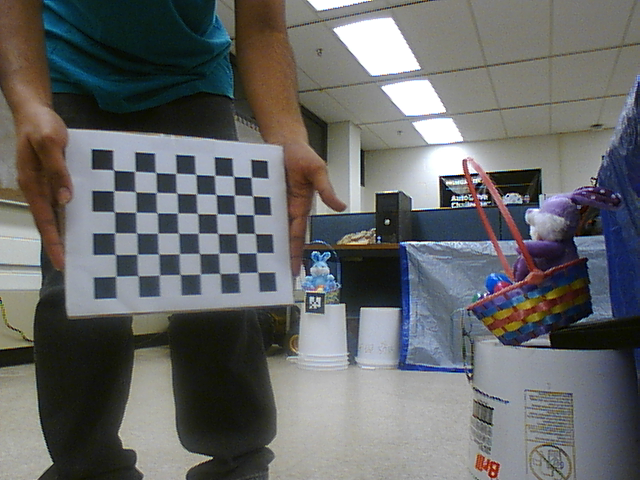bunny: (452, 154, 605, 345)
